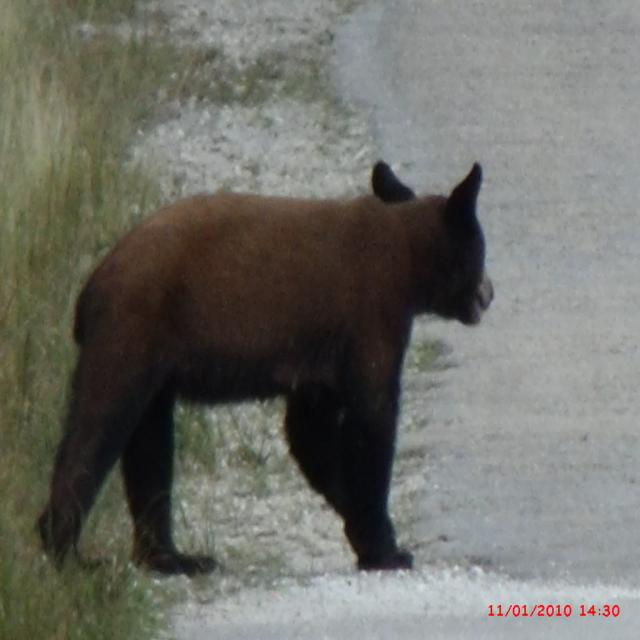Buffalo: (34, 160, 495, 572)
